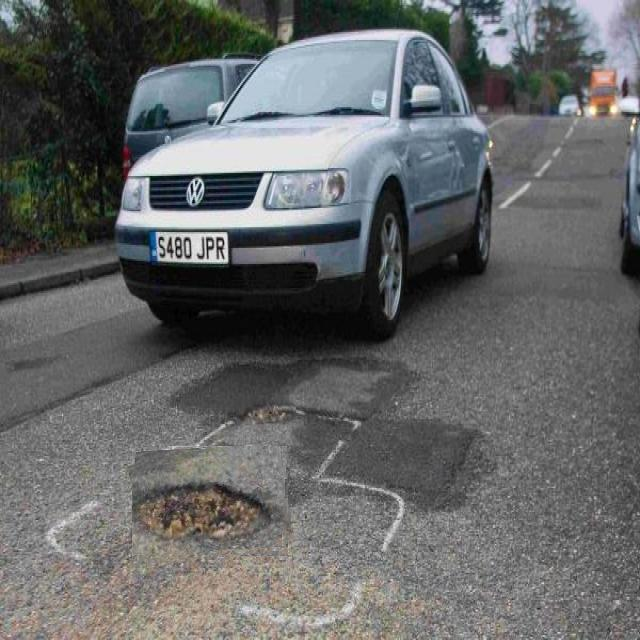Pothole: (132, 446, 292, 562), (236, 395, 296, 425)
